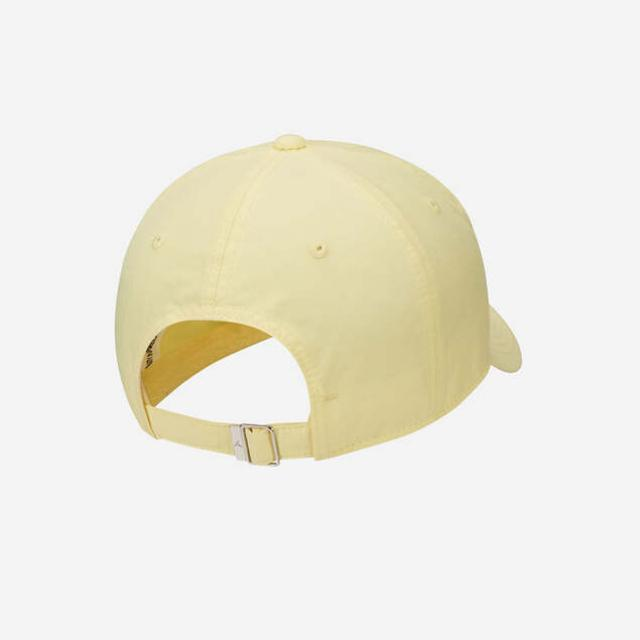Nonhelmet: (110, 131, 523, 469)
